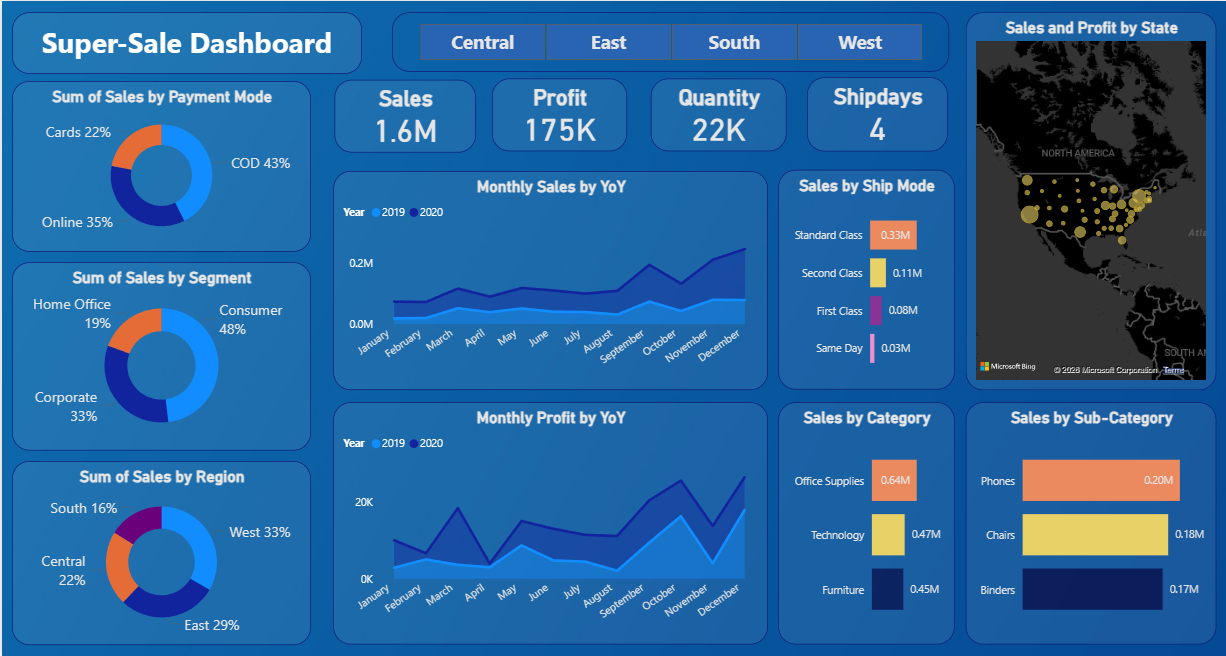

Layout of this report page (visuals, bound fields, positions):
{"tool":"powerbi","page":{"name":"Page 1","canvas":[1400,750],"ordinal":0},"visuals":[{"type":"clusteredBarChart","title":"Sales by Category","fields":{"Category":["SuperStore_Sales_Dataset.Category"],"Y":["Sum(SuperStore_Sales_Dataset.Sales)"]},"box":[886.7,458.3,201.7,276.7],"z":0},{"type":"clusteredBarChart","title":"Sales by Sub-Category","fields":{"Category":["SuperStore_Sales_Dataset.Sub-Category"],"Y":["Sum(SuperStore_Sales_Dataset.Sales)"]},"box":[1101.7,458.3,286.7,276.7],"z":1000},{"type":"clusteredBarChart","title":"Sales by Ship Mode","fields":{"Category":["SuperStore_Sales_Dataset.Ship Mode"],"Y":["Sum(SuperStore_Sales_Dataset.Sales)"]},"box":[887.1,192.9,201.4,251.4],"z":2000},{"type":"stackedAreaChart","title":"Monthly Sales by YoY","fields":{"Category":["SuperStore_Sales_Dataset.Order Date.Variation.Date Hierarchy.Month","SuperStore_Sales_Dataset.Order Date.Variation.Date Hierarchy.Day"],"Y":["Sum(SuperStore_Sales_Dataset.Sales)"],"Series":["SuperStore_Sales_Dataset.Order Date.Variation.Date Hierarchy.Year"]},"box":[378.6,194.3,497.1,250],"z":3000},{"type":"stackedAreaChart","title":"Monthly Profit by YoY","fields":{"Category":["SuperStore_Sales_Dataset.Order Date.Variation.Date Hierarchy.Month","SuperStore_Sales_Dataset.Order Date.Variation.Date Hierarchy.Day"],"Series":["SuperStore_Sales_Dataset.Order Date.Variation.Date Hierarchy.Year"],"Y":["Sum(SuperStore_Sales_Dataset.Profit)"]},"box":[378.3,458.3,496.7,276.7],"z":4000},{"type":"donutChart","fields":{"Category":["SuperStore_Sales_Dataset.Segment"],"Y":["Sum(SuperStore_Sales_Dataset.Sales)"]},"box":[11.7,298.3,341.7,215],"z":5000},{"type":"donutChart","fields":{"Category":["SuperStore_Sales_Dataset.Payment Mode"],"Y":["Sum(SuperStore_Sales_Dataset.Sales)"]},"box":[11.7,91.7,341.7,195],"z":6000},{"type":"slicer","fields":{"Values":["SuperStore_Sales_Dataset.Region"]},"box":[445,13.3,636.7,68.3],"z":7000},{"type":"textbox","box":[11.7,13.3,400,70],"z":8000},{"type":"card","title":"Sales","fields":{"Values":["Sum(SuperStore_Sales_Dataset.Sales)"]},"box":[380,90,161.7,83.3],"z":9000},{"type":"card","title":"Profit","fields":{"Values":["Sum(SuperStore_Sales_Dataset.Profit)"]},"box":[559.4,88.9,154.4,83.3],"z":10000},{"type":"card","title":"Quantity","fields":{"Values":["Sum(SuperStore_Sales_Dataset.Quantity)"]},"box":[741.7,88.9,155.6,83.3],"z":11000},{"type":"card","title":"Shipdays","fields":{"Values":["Avg(SuperStore_Sales_Dataset.AvgDelivery)"]},"box":[920.6,87.8,161.1,84.4],"z":12000},{"type":"donutChart","fields":{"Y":["Sum(SuperStore_Sales_Dataset.Sales)"],"Category":["SuperStore_Sales_Dataset.Region"]},"box":[11.7,525,341.7,210],"z":13000},{"type":"map","title":"Sales and Profit by State","fields":{"Category":["SuperStore_Sales_Dataset.State"],"Size":["Sum(SuperStore_Sales_Dataset.Sales)"]},"box":[1101.7,13.3,286.7,431.7],"z":14000}]}

Visuals, with their boxes in screenshot pixels (x1, y1, x2, y2), scaled from the page's 1400x750 canvas onto the 1226x656 screenshot:
"Sales by Category" clusteredBarChart: [x1=776, y1=401, x2=953, y2=643]
"Sales by Sub-Category" clusteredBarChart: [x1=965, y1=401, x2=1216, y2=643]
"Sales by Ship Mode" clusteredBarChart: [x1=777, y1=169, x2=953, y2=389]
"Monthly Sales by YoY" stackedAreaChart: [x1=332, y1=170, x2=767, y2=389]
"Monthly Profit by YoY" stackedAreaChart: [x1=331, y1=401, x2=766, y2=643]
donutChart - SuperStore_Sales_Dataset.Segment x Sum(SuperStore_Sales_Dataset.Sales): [x1=10, y1=261, x2=309, y2=449]
donutChart - SuperStore_Sales_Dataset.Payment Mode x Sum(SuperStore_Sales_Dataset.Sales): [x1=10, y1=80, x2=309, y2=251]
slicer - SuperStore_Sales_Dataset.Region: [x1=390, y1=12, x2=947, y2=71]
textbox: [x1=10, y1=12, x2=361, y2=73]
"Sales" card: [x1=333, y1=79, x2=474, y2=152]
"Profit" card: [x1=490, y1=78, x2=625, y2=151]
"Quantity" card: [x1=650, y1=78, x2=786, y2=151]
"Shipdays" card: [x1=806, y1=77, x2=947, y2=151]
donutChart - Sum(SuperStore_Sales_Dataset.Sales) x SuperStore_Sales_Dataset.Region: [x1=10, y1=459, x2=309, y2=643]
"Sales and Profit by State" map: [x1=965, y1=12, x2=1216, y2=389]
